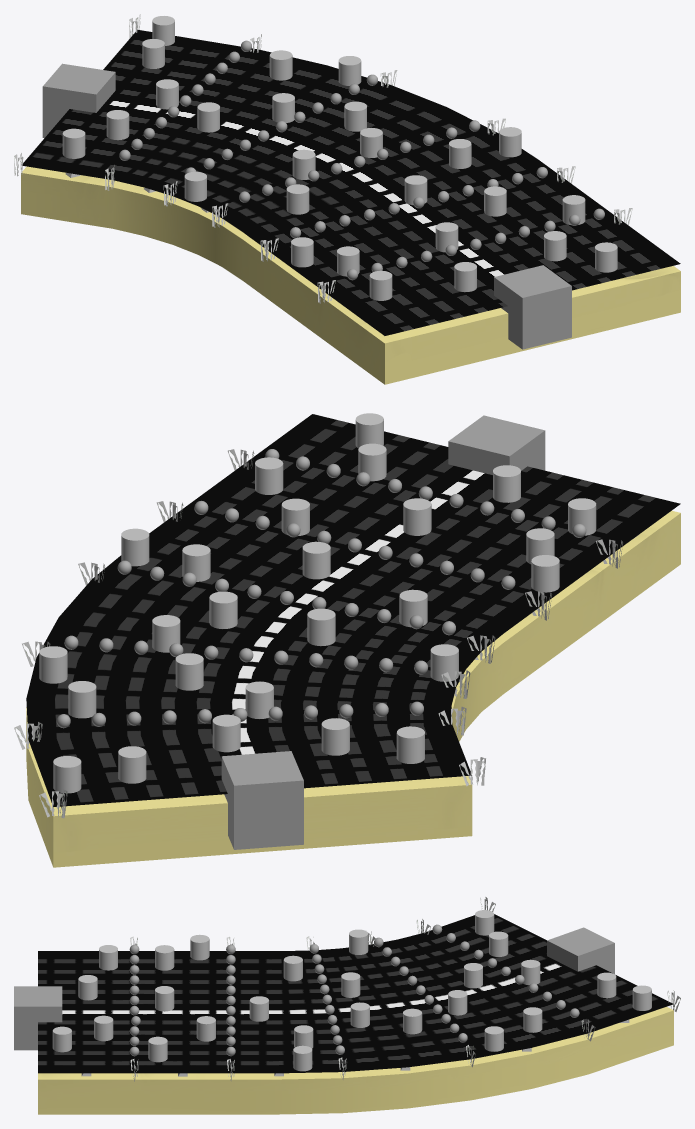
The model's file is assets013_Streckenteil_links002.fbx.
The picture shows the model from 3 angles, top to bottom: view 1: azimuth 30°, elevation 25°; view 2: azimuth 150°, elevation 25°; view 3: azimuth 270°, elevation 25°; orthographic projection. The views are drawn at different scales.
Visible parts, largest first — view 1: streckenteil_linkskurve_indicator_geo, streckenteil_linkskurve_geo2, a (×12), b (×10), startpoint, endpoint, c (×4); view 2: streckenteil_linkskurve_indicator_geo, streckenteil_linkskurve_geo2, a (×12), b (×10), endpoint, startpoint, c (×4); view 3: streckenteil_linkskurve_indicator_geo, streckenteil_linkskurve_geo2, a (×12), b (×10), startpoint, endpoint, c (×4).
Boxes of the visible parts, x1,y1,x2,y2 form: streckenteil_linkskurve_indicator_geo: (22, 29, 680, 335); streckenteil_linkskurve_geo2: (21, 166, 680, 384); a (×12): (106, 50, 617, 300); b (×10): (156, 56, 585, 276); startpoint: (494, 265, 571, 349); endpoint: (42, 63, 115, 138); c (×4): (62, 16, 366, 158); streckenteil_linkskurve_indicator_geo: (26, 414, 680, 807); streckenteil_linkskurve_geo2: (26, 510, 680, 867); a (×12): (68, 413, 596, 755); b (×10): (39, 457, 554, 752); endpoint: (221, 751, 303, 849); startpoint: (448, 415, 545, 474); c (×4): (53, 615, 424, 793); streckenteil_linkskurve_indicator_geo: (38, 914, 673, 1073); streckenteil_linkskurve_geo2: (38, 1006, 673, 1114); a (×12): (52, 931, 542, 1071); b (×10): (148, 929, 540, 1062); startpoint: (14, 986, 62, 1050); endpoint: (547, 927, 614, 974); c (×4): (403, 910, 651, 1034).
Bounding box in the file's own units: 41.81 × 6.73 × 69.18.
